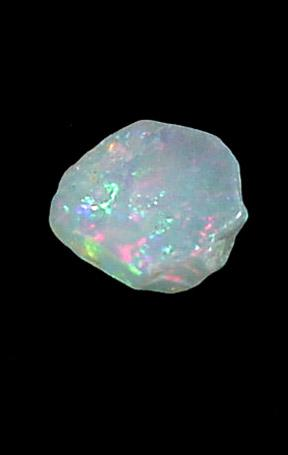opal: (49, 120, 248, 294)
